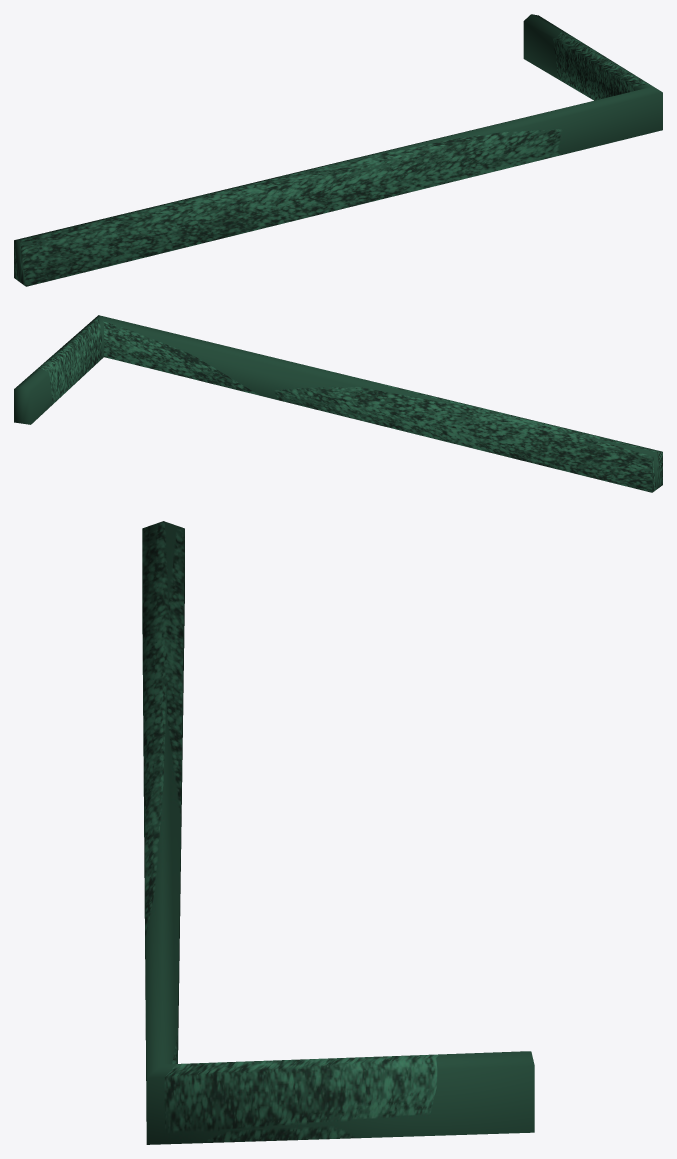
File: Ring2W6.fbx
3 renders of one model, top to bottom at view 1: azimuth 30°, elevation 25°; view 2: azimuth 150°, elevation 25°; view 3: azimuth 270°, elevation 25°, orthographic. The views are drawn at different scales.
Visible parts, largest first — view 1: Ring2W6; view 2: Ring2W6; view 3: Ring2W6.
Boxes of the visible parts, bbox=[...] form: Ring2W6: bbox=[14, 14, 662, 286]; Ring2W6: bbox=[14, 315, 662, 492]; Ring2W6: bbox=[142, 521, 534, 1144].
Size of the model in its own units: 6373 by 400 by 1923.
